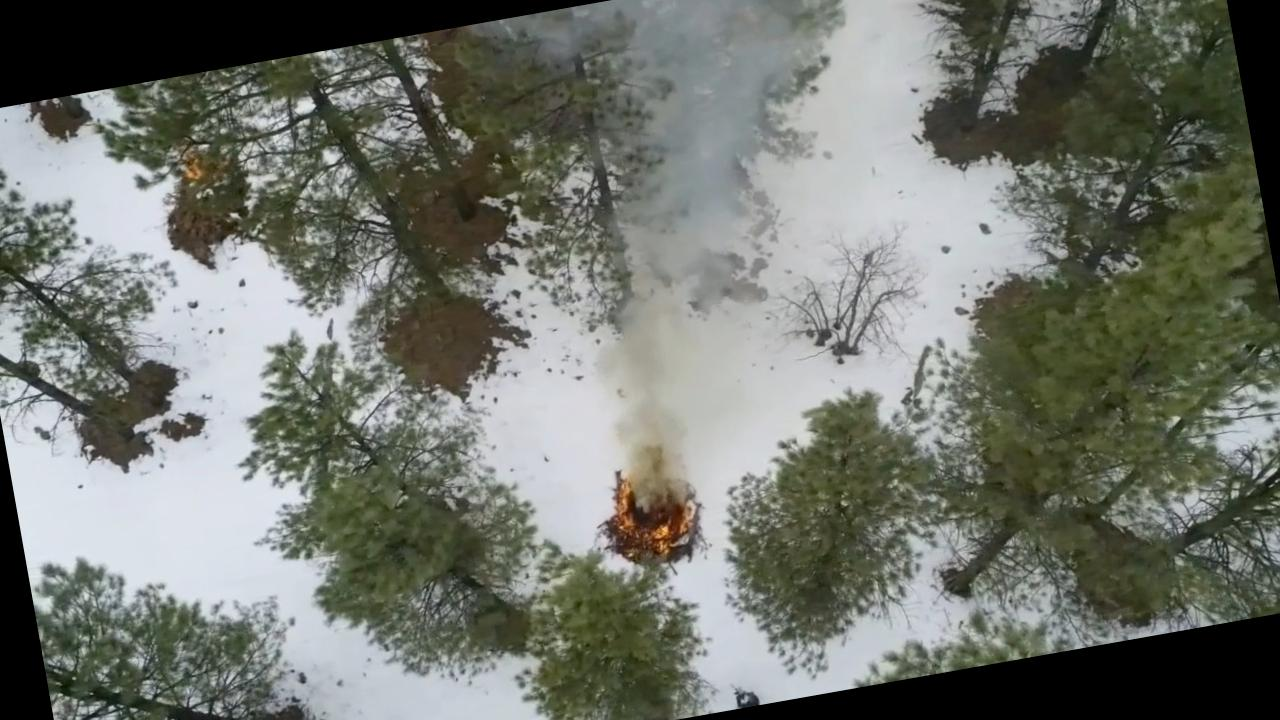fire: (598, 453, 708, 568)
smoke: (554, 0, 817, 167), (598, 142, 778, 308)
